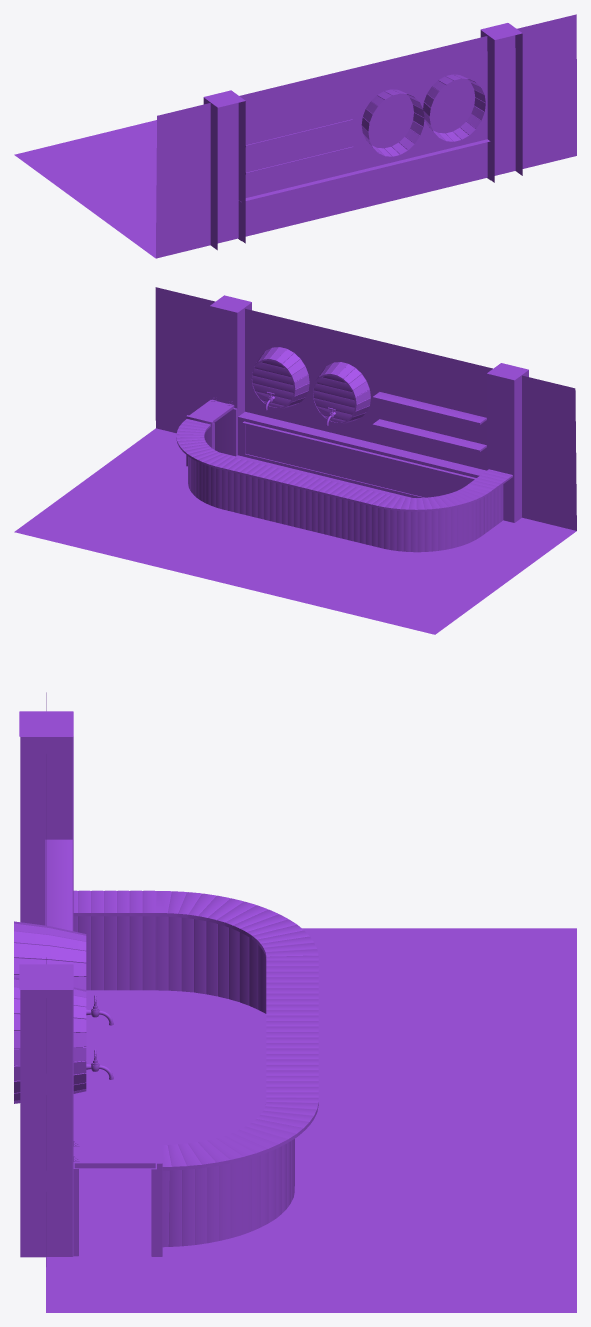
Rendered from Bar.fbx.
3 views of the same model, one above another, from view 1: azimuth 30°, elevation 25°; view 2: azimuth 150°, elevation 25°; view 3: azimuth 270°, elevation 25° (orthographic). The views are drawn at different scales.
Visible parts, largest first — view 1: Bar; view 2: Bar; view 3: Bar.
Boxes of the visible parts, bbox=[...] form: Bar: bbox=[14, 14, 576, 258]; Bar: bbox=[14, 287, 576, 634]; Bar: bbox=[14, 692, 576, 1312].
Bounding box in the file's own units: 1261 × 410 × 780.
